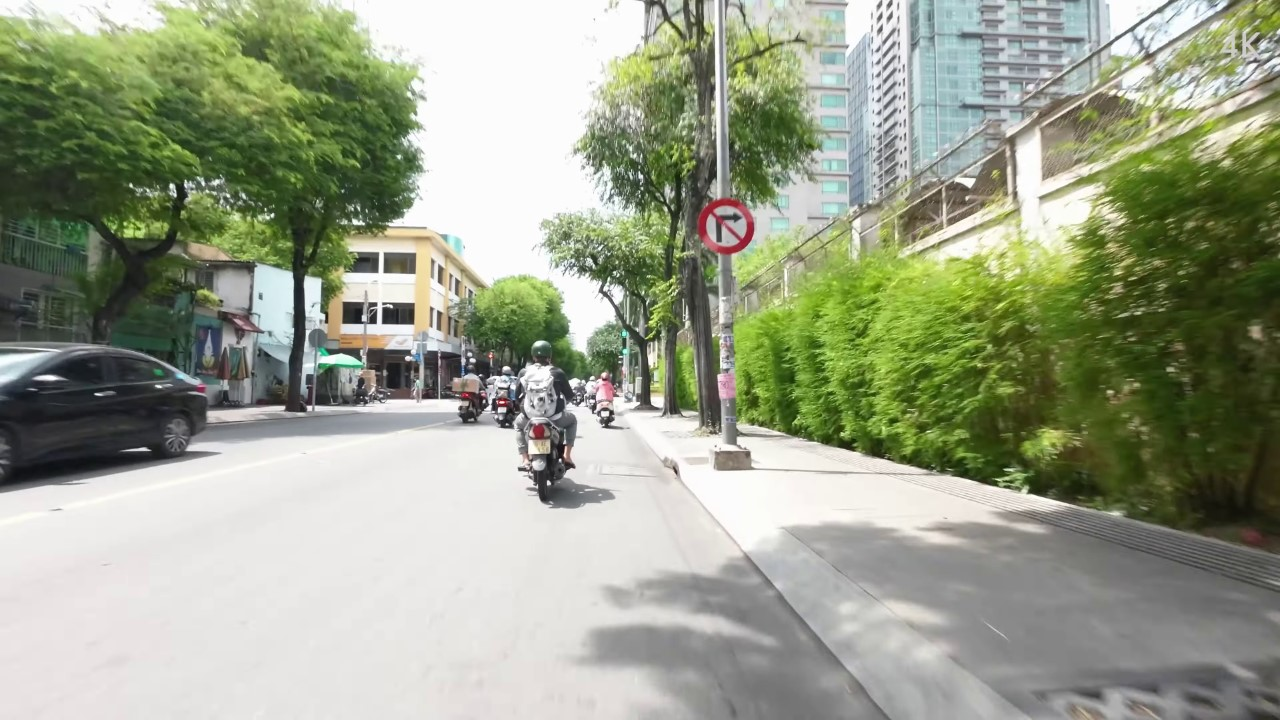cam_re_phai: (695, 195, 758, 255)
